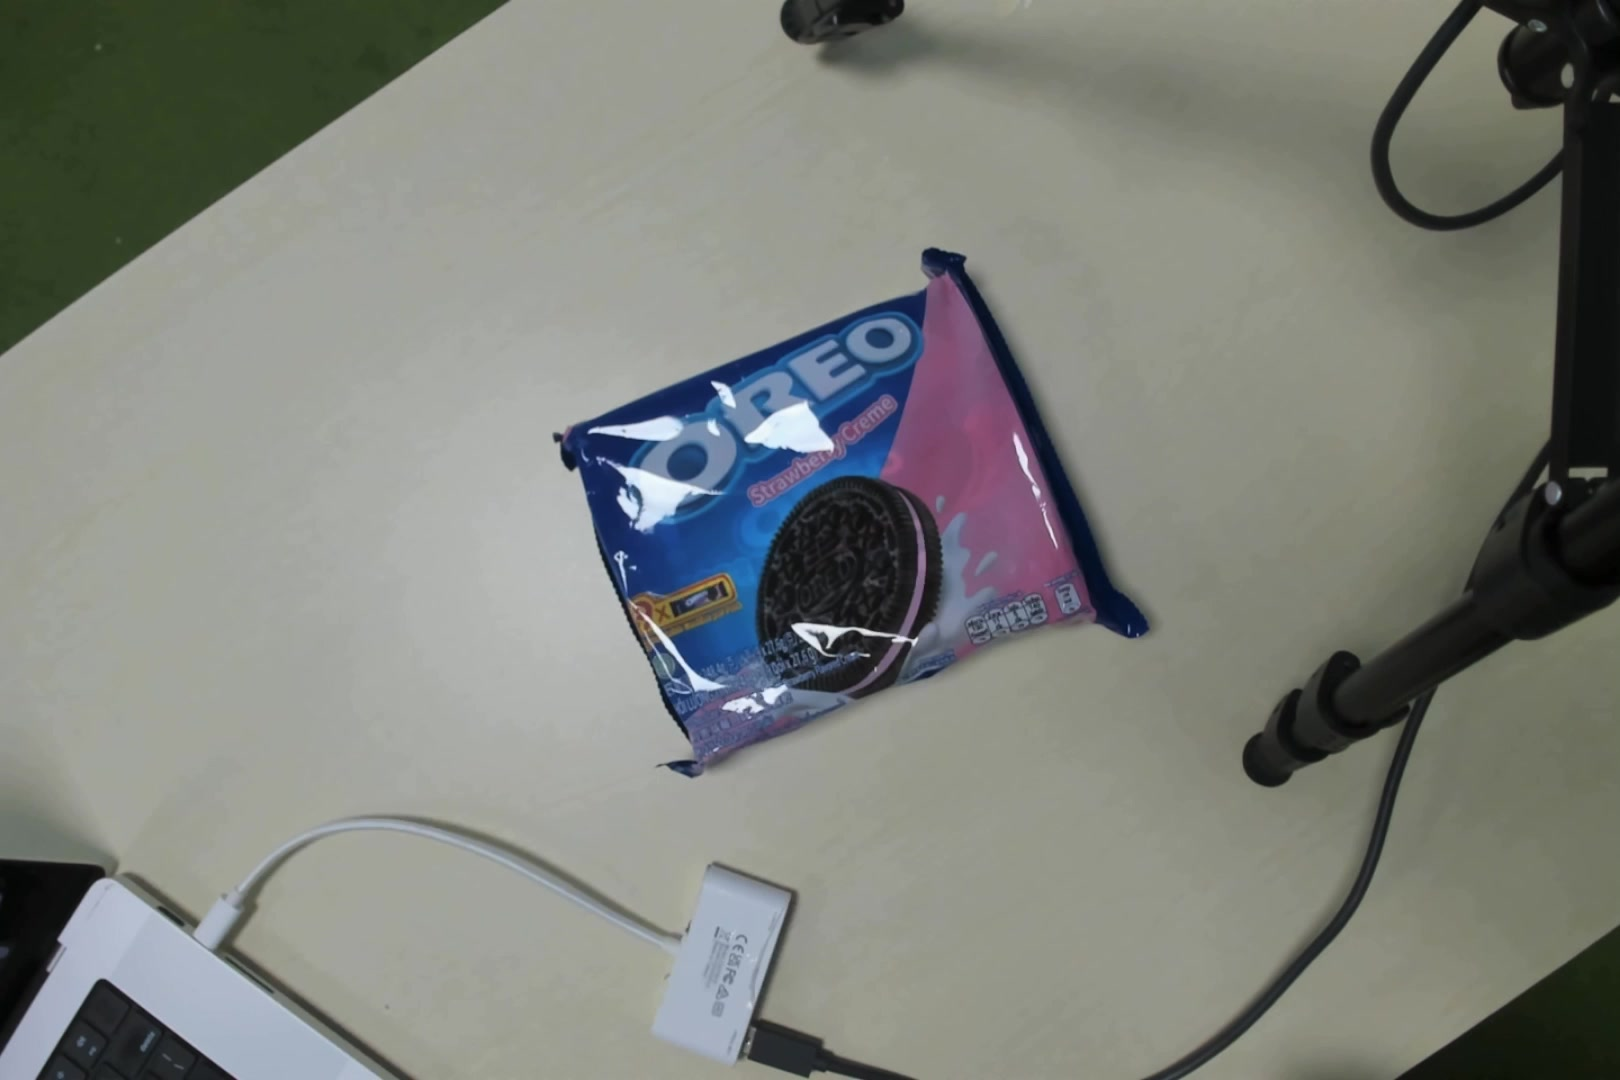SweetsChocolatesOthers_200-299g_Halal_NonHealthy: (597, 292, 1076, 735)
